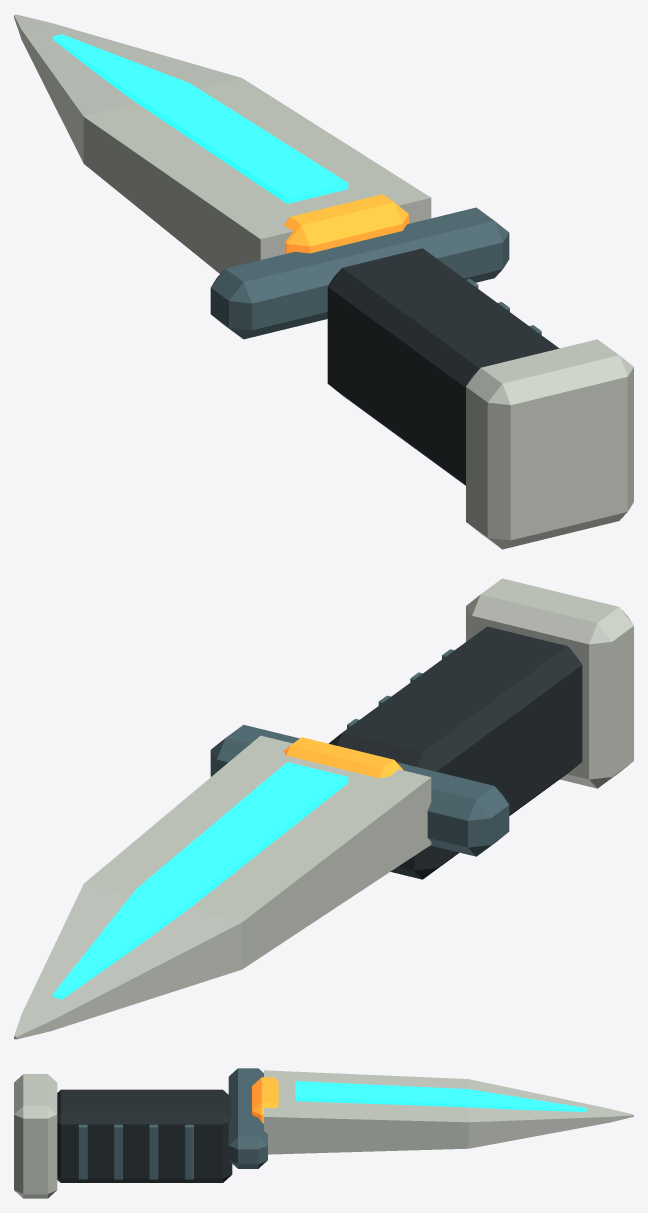
File: 01_vigil_knife.glb
3 views of the same model, one above another, from view 1: azimuth 30°, elevation 25°; view 2: azimuth 150°, elevation 25°; view 3: azimuth 270°, elevation 25° (orthographic). The views are drawn at different scales.
Visible parts, largest first — view 1: phase blade, pommel, handle, cross guard, energy fuller, blade emitter; view 2: phase blade, handle, energy fuller, pommel, cross guard, blade emitter; view 3: phase blade, handle, pommel, energy fuller, cross guard, blade emitter, handle rib, handle rib.001, handle rib.002, handle rib.003.
Part boxes in pixels (box(x1,y1,x2,y2)): phase blade: box(14, 14, 431, 273); pommel: box(466, 339, 633, 549); handle: box(327, 248, 559, 485); cross guard: box(210, 207, 509, 339); energy fuller: box(52, 34, 348, 203); blade emitter: box(284, 194, 408, 253); phase blade: box(14, 735, 431, 1039); handle: box(329, 626, 582, 879); energy fuller: box(52, 762, 348, 999); pommel: box(466, 578, 633, 788); cross guard: box(210, 724, 509, 856); blade emitter: box(284, 737, 403, 778); phase blade: box(264, 1070, 633, 1154); handle: box(57, 1089, 232, 1182); pommel: box(14, 1074, 57, 1198); energy fuller: box(295, 1081, 586, 1111); cross guard: box(228, 1068, 267, 1168); blade emitter: box(252, 1077, 278, 1123); handle rib: box(78, 1124, 87, 1179); handle rib.001: box(113, 1124, 122, 1179); handle rib.002: box(149, 1124, 158, 1179); handle rib.003: box(184, 1124, 193, 1179).
Size of the model in its own units: 0.23 by 0.131 by 0.7875.
